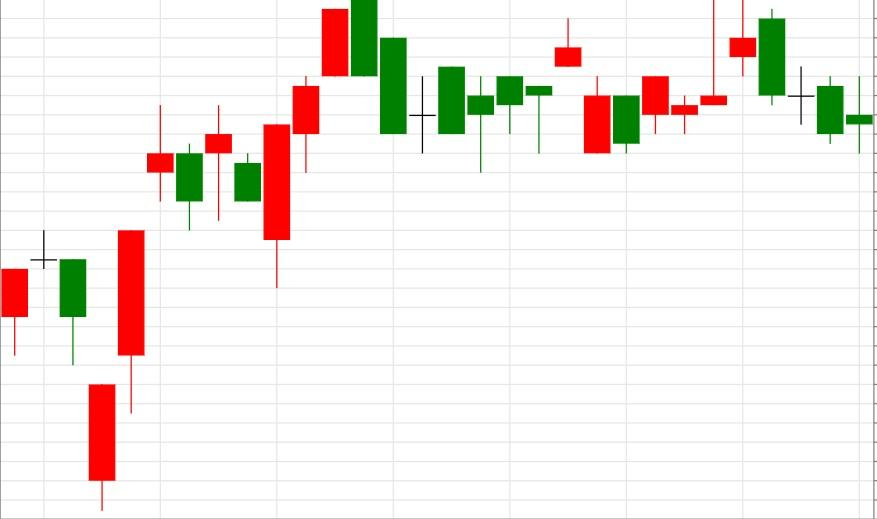bearish_engulfing_fall: (87, 0, 378, 510)
